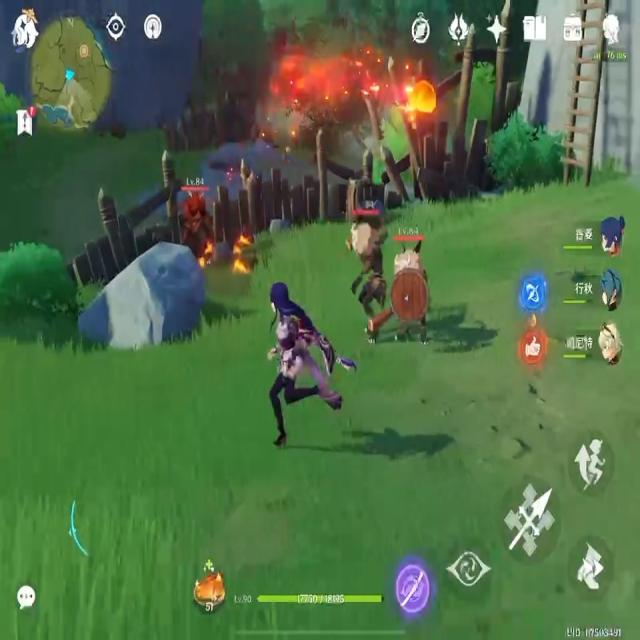genshin-hilichurls: (337, 187, 382, 335), (392, 234, 434, 353), (177, 171, 214, 269)
